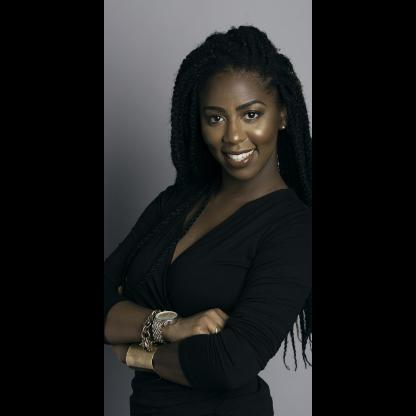Female: (200, 68, 288, 180)
